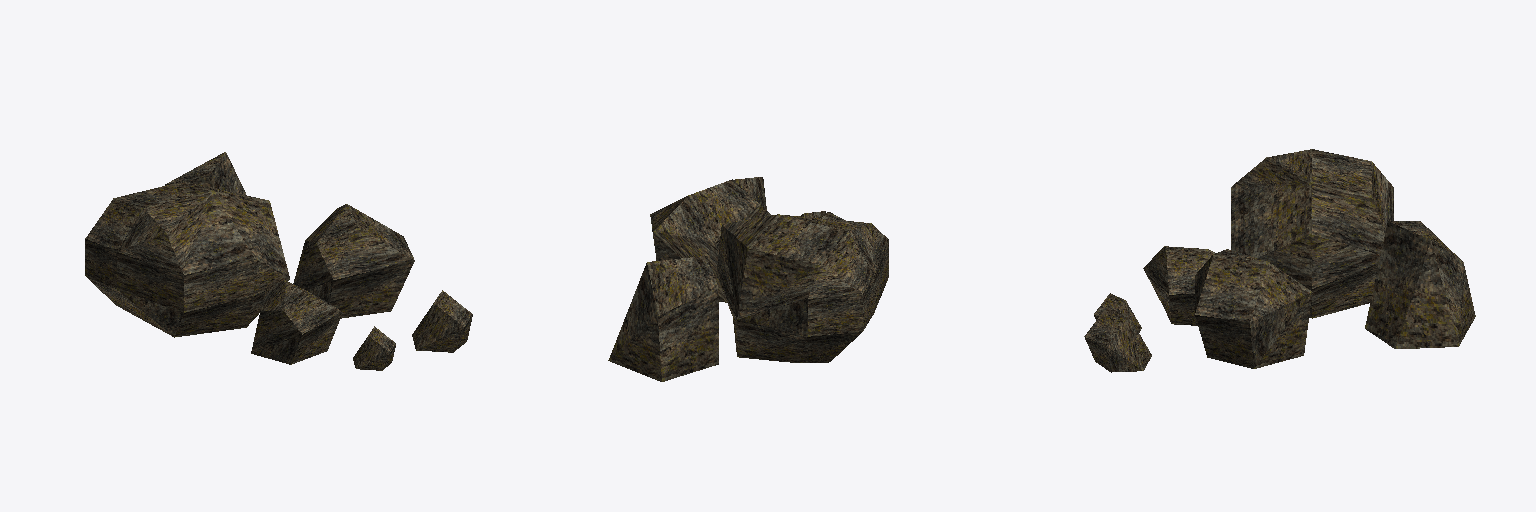
3 renders of one model, left to right at view 1: azimuth 30°, elevation 25°; view 2: azimuth 150°, elevation 25°; view 3: azimuth 270°, elevation 25°, orthographic.
Visible parts, largest first — view 1: Rocks2; view 2: Rocks2; view 3: Rocks2.
Part boxes in pixels (left/top/right/bottom): Rocks2: left=85, top=152, right=472, bottom=370; Rocks2: left=608, top=177, right=888, bottom=381; Rocks2: left=1084, top=149, right=1475, bottom=372.
Bounding box in the file's own units: 22.3 × 9.6 × 28.47.
1 materials, 1 textured.